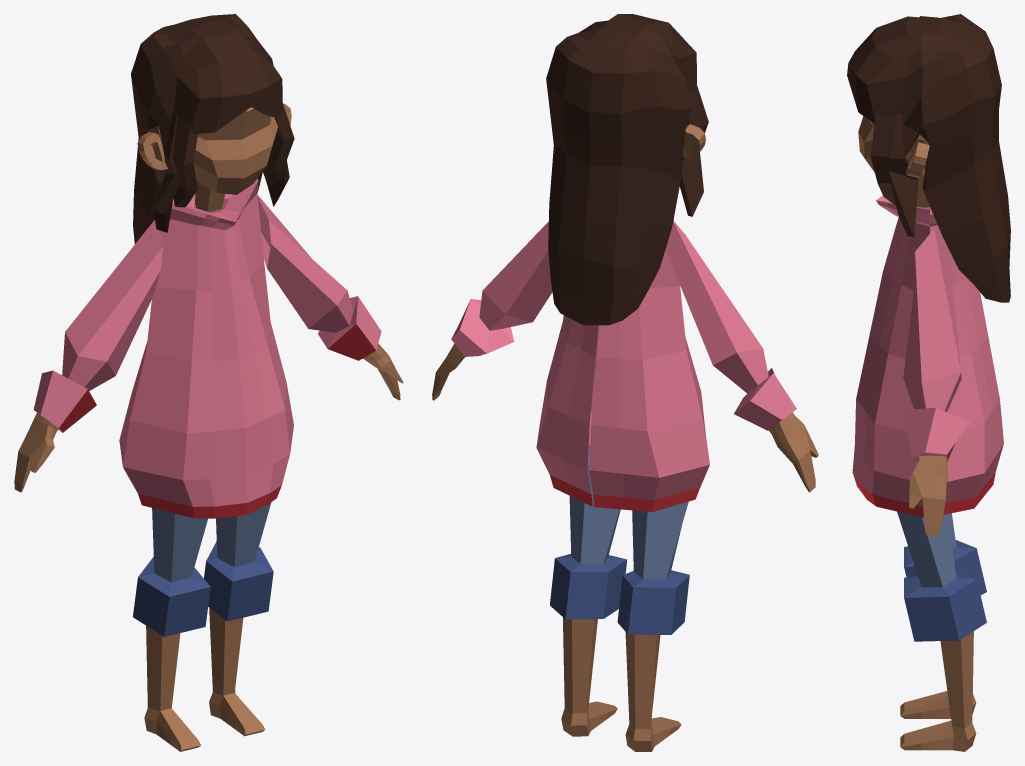
File: girl_updated.glb
3 renders of one model, left to right at view 1: azimuth 30°, elevation 25°; view 2: azimuth 150°, elevation 25°; view 3: azimuth 270°, elevation 25°, orthographic.
Visible parts, largest first — view 1: Cube, Cylinder.001, Cube.003, Cylinder, Cube.001, Cube.002; view 2: Cube.003, Cube, Cylinder, Cylinder.001; view 3: Cube.003, Cube, Cylinder, Cylinder.001, Cube.001, Cube.002.
Boxes of the visible parts, x1,y1,x2,y2 form: Cube: (119, 178, 293, 518); Cylinder.001: (14, 194, 403, 492); Cube.003: (131, 14, 294, 243); Cylinder: (133, 502, 273, 751); Cube.001: (158, 107, 277, 194); Cube.002: (137, 103, 291, 169); Cube.003: (546, 14, 708, 325); Cube: (536, 219, 709, 511); Cylinder: (550, 449, 689, 751); Cylinder.001: (432, 221, 818, 492); Cube.003: (847, 14, 1010, 302); Cube: (852, 195, 1003, 517); Cylinder: (897, 511, 986, 751); Cylinder.001: (903, 229, 970, 536); Cube.001: (858, 116, 928, 172); Cube.002: (905, 142, 929, 178).
Bounding box in the file's own units: 2.12 × 3.76 × 0.792.
